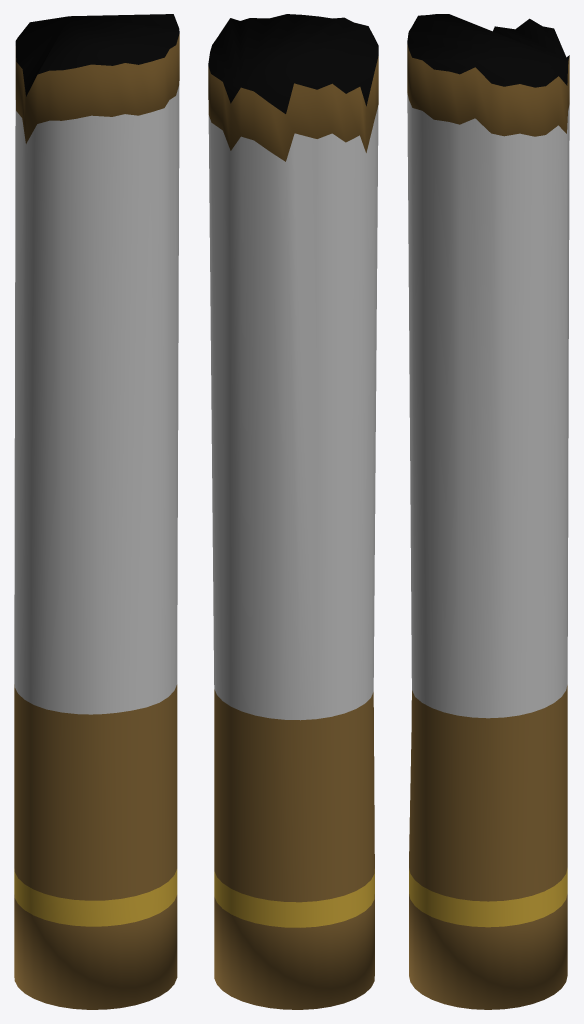
The model's file is CIGARETTE BUTT.fbx.
The picture shows the model from 3 angles, left to right: view 1: azimuth 30°, elevation 25°; view 2: azimuth 150°, elevation 25°; view 3: azimuth 270°, elevation 25°; orthographic projection.
Visible parts, largest first — view 1: Cube; view 2: Cube; view 3: Cube.
Boxes of the visible parts, x1,y1,x2,y2 form: Cube: (14,14,179,1009); Cube: (208,14,378,1009); Cube: (407,14,569,1009).
Size of the model in its own units: 38.69 by 238 by 37.23.
